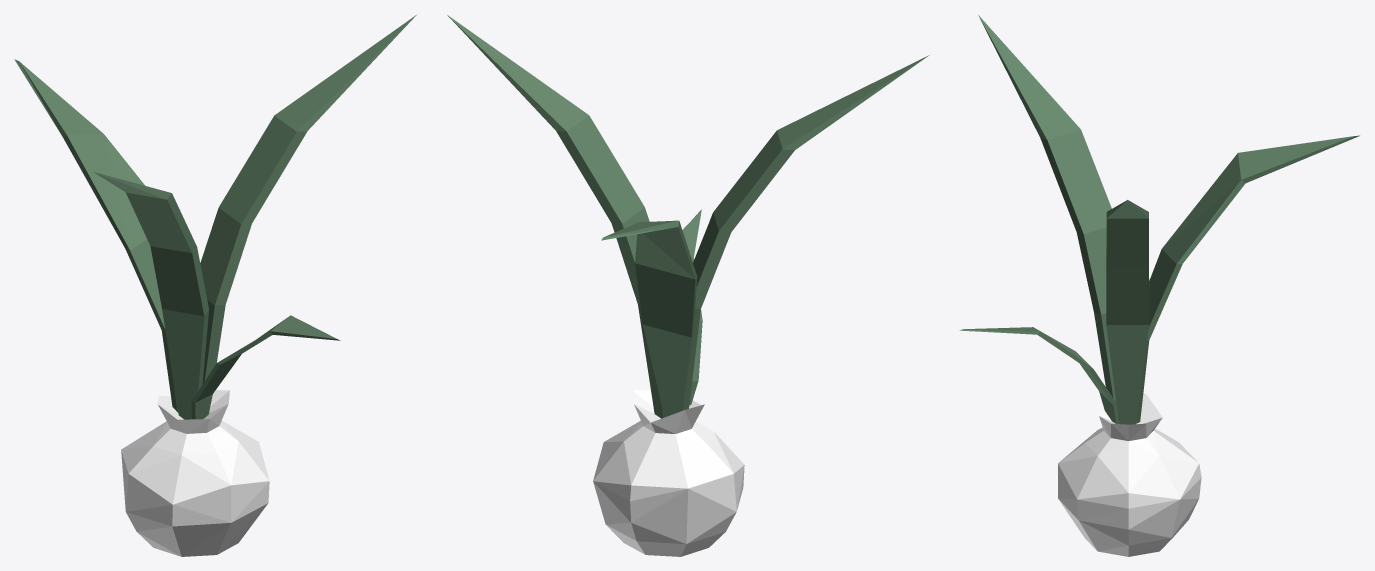
File: onion.glb
The picture shows the model from 3 angles, left to right: view 1: azimuth 30°, elevation 25°; view 2: azimuth 150°, elevation 25°; view 3: azimuth 270°, elevation 25°; orthographic projection. The views are drawn at different scales.
Visible parts, largest first — view 1: onion; view 2: onion; view 3: onion.
Boxes of the visible parts, x1,y1,x2,y2 form: onion: (14,15,416,556); onion: (447,15,929,556); onion: (959,15,1359,556).
Bounding box in the file's own units: 0.3558 × 0.4055 × 0.3253.
1 material, 1 textured.
